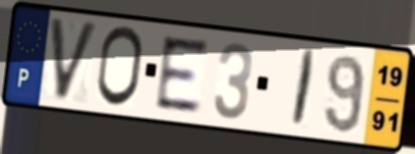3: (212, 40, 255, 121)
9: (321, 52, 367, 135)
E: (154, 34, 211, 114)
I: (288, 47, 319, 131)
O: (93, 23, 146, 110)
V: (47, 15, 101, 105)
